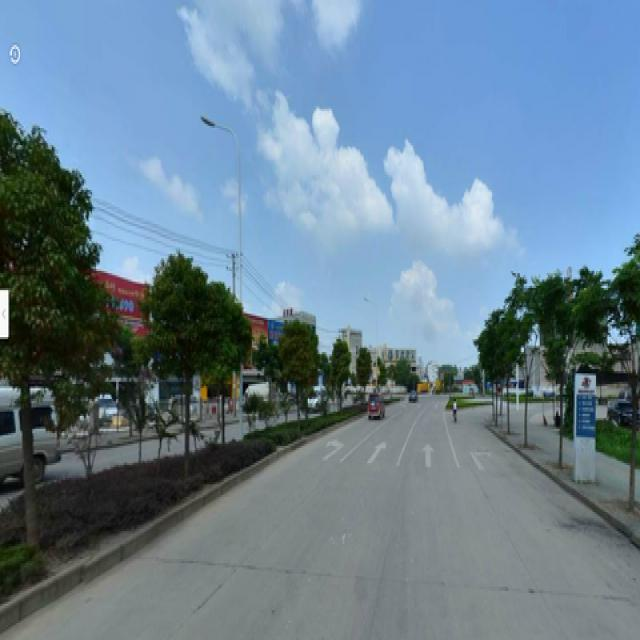cinn: (4, 124, 73, 520), (154, 284, 202, 476), (279, 318, 312, 431), (329, 335, 347, 403)
koel: (540, 275, 577, 472), (613, 264, 639, 502)
